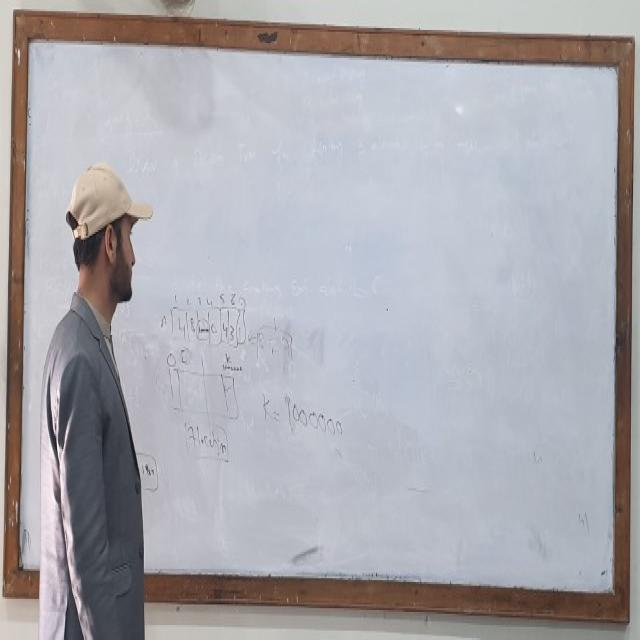Instructor: (46, 163, 152, 640)
White-board: (10, 20, 627, 612)
